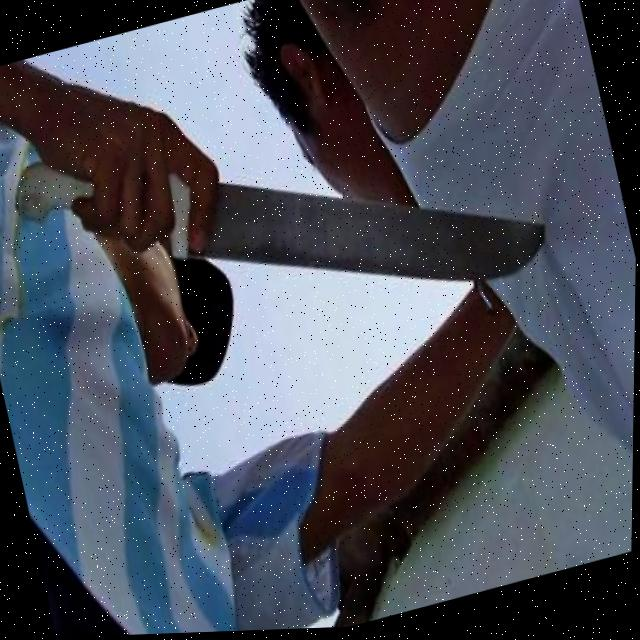knife: (162, 88, 558, 360)
